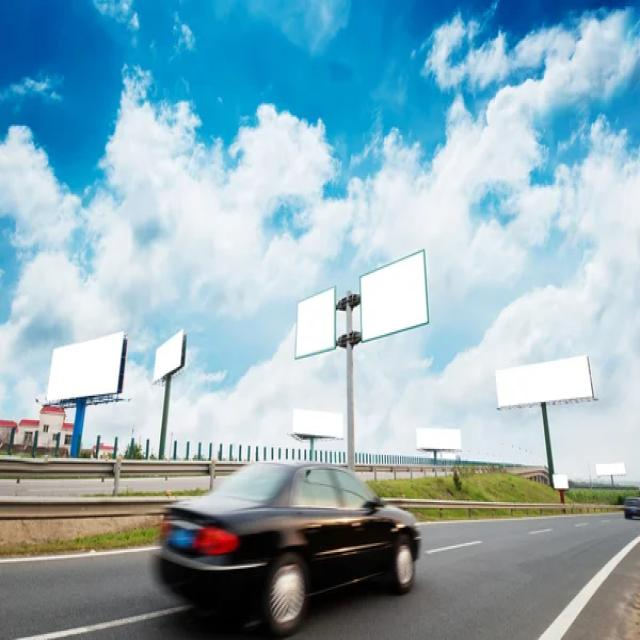Billboard_overhead: (481, 338, 600, 419), (38, 322, 134, 413)
Billboard_overhead_small: (349, 243, 434, 342), (280, 282, 339, 362), (146, 327, 193, 389)
Billboard_small: (411, 413, 474, 460), (286, 396, 347, 443), (597, 453, 626, 489)
Roadcorner: (519, 522, 639, 638), (6, 529, 154, 591)
Roadlane: (425, 512, 571, 565), (24, 595, 179, 638)
